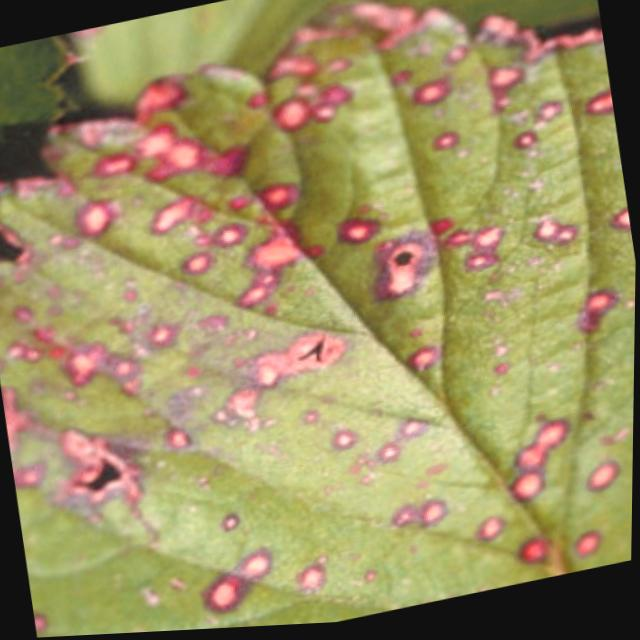Leaf Spot: (0, 0, 637, 638), (69, 0, 600, 116)
